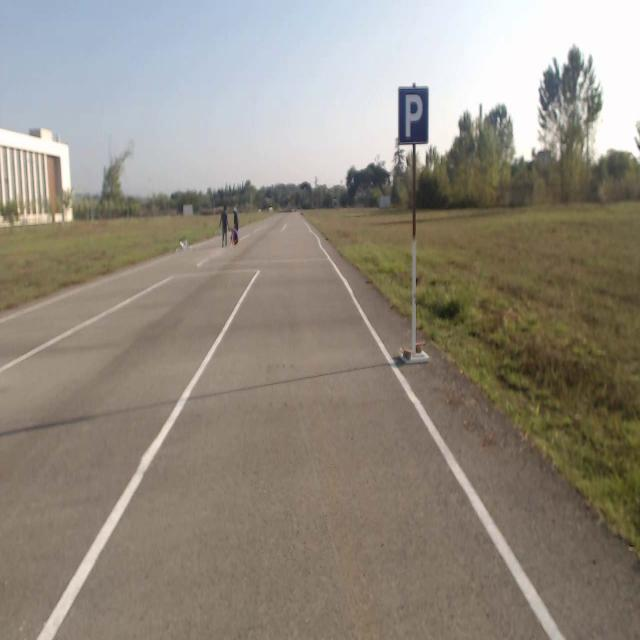park: (398, 87, 428, 143)
